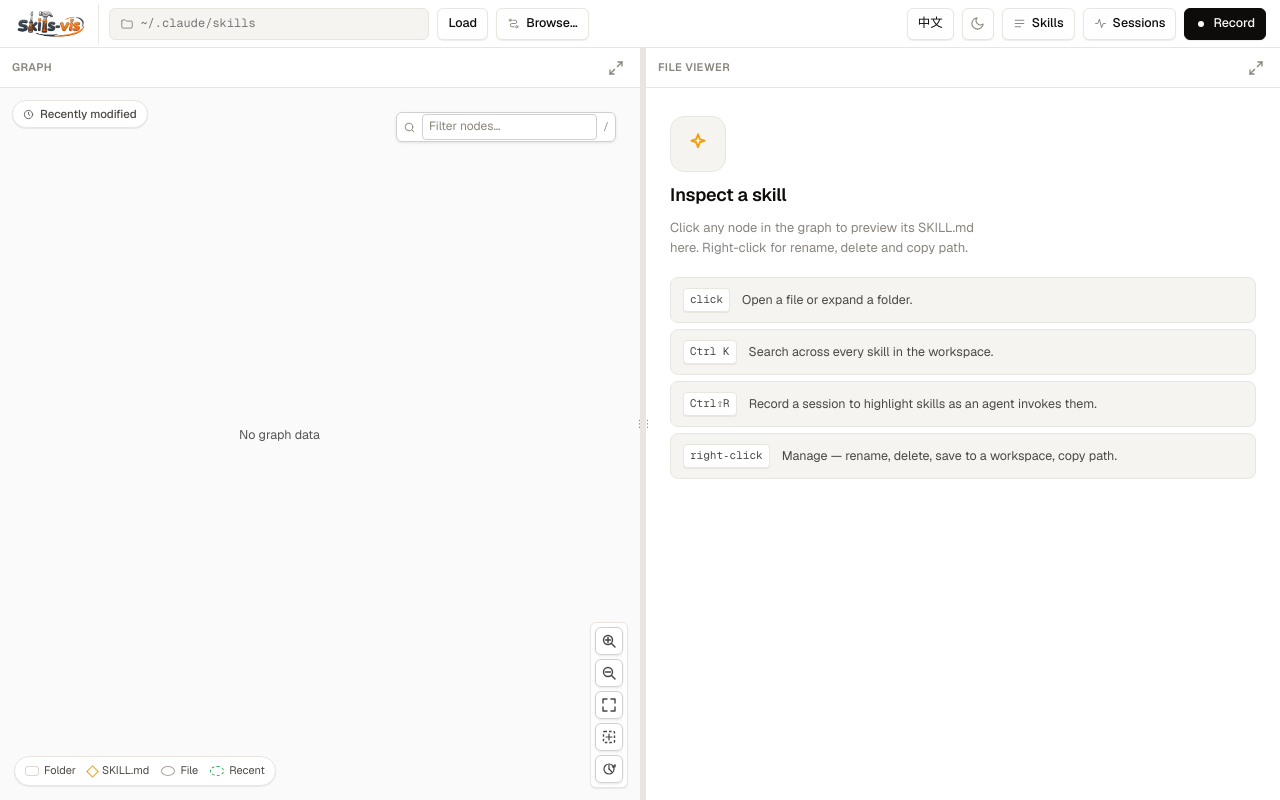
Test: Skills Drawer integration › opening the monitor drawer closes the skills drawer
This screenshot has width=1280, height=800.
Click the button with test id "open-drawer" at point(1038, 24), box left=1002, top=8, right=1075, bottom=40
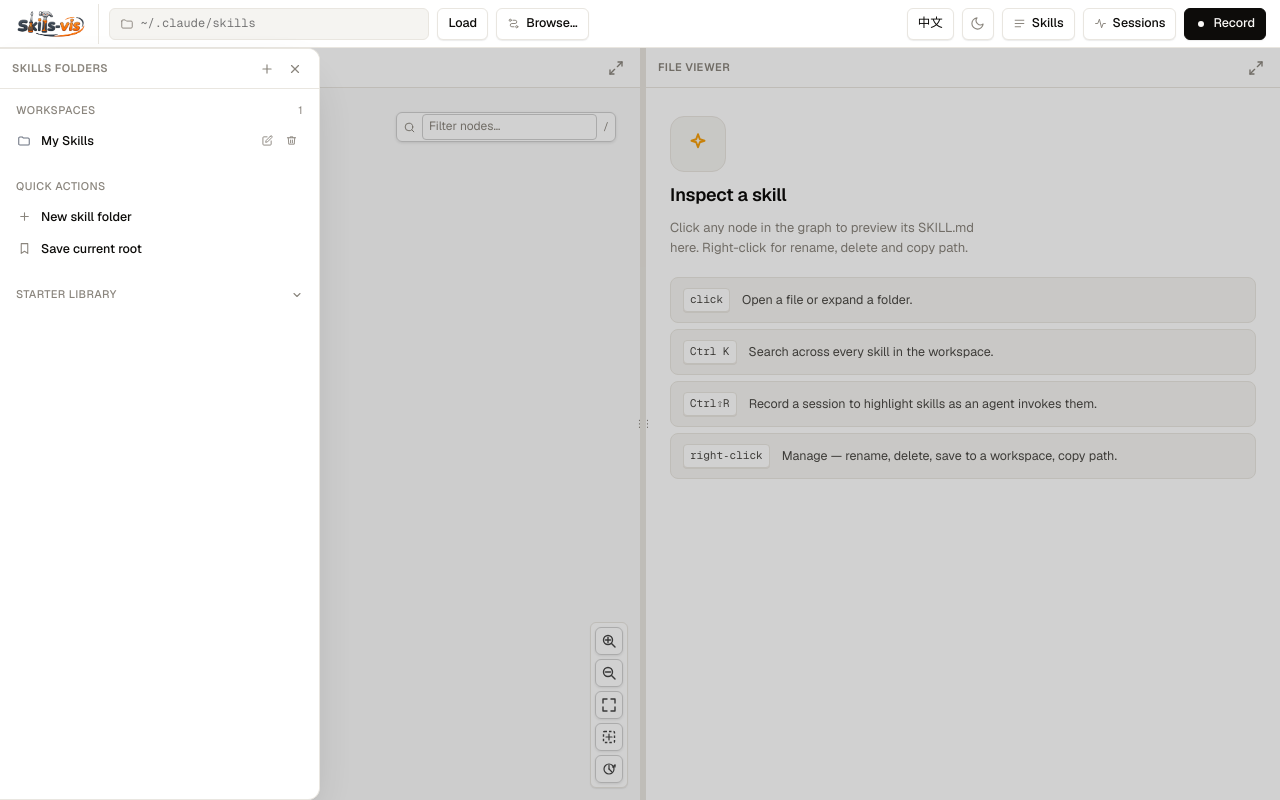
Expected: the element with test id "skills-drawer" is shown, left=0, top=48, right=320, bottom=799
Click the button with test id "open-monitor" at point(1130, 24), box left=1083, top=8, right=1176, bottom=40
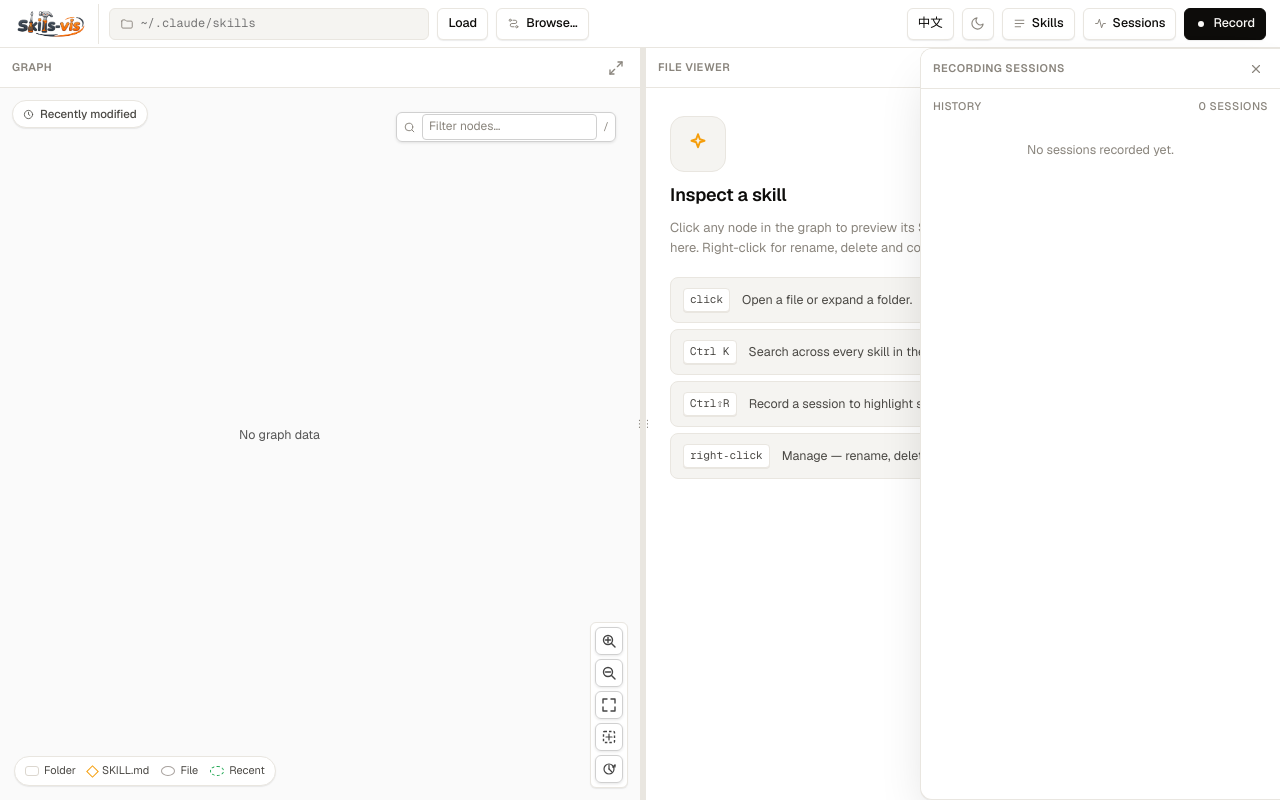
Expected: the element with test id "session-monitor-drawer" is shown, left=920, top=48, right=1279, bottom=799
